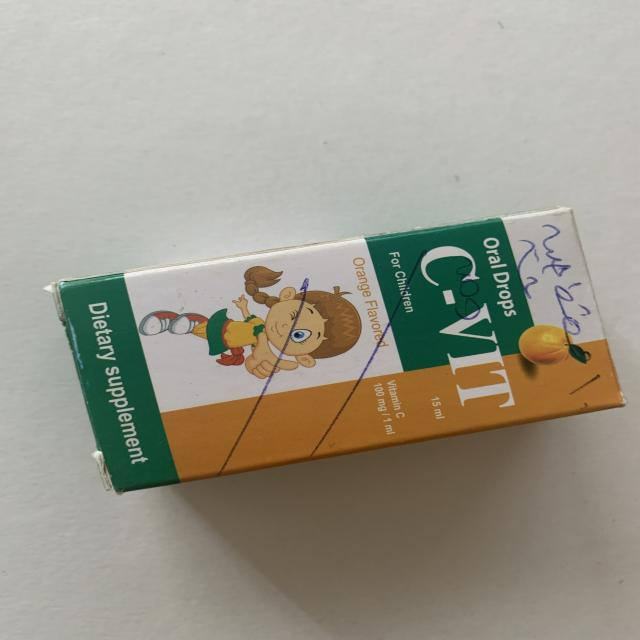C-VIT: (31, 212, 630, 509)
